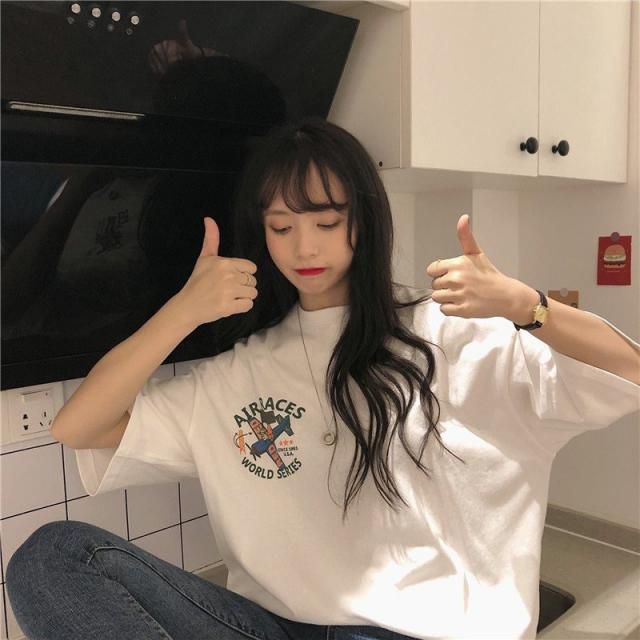Shirt: (68, 288, 639, 639)
